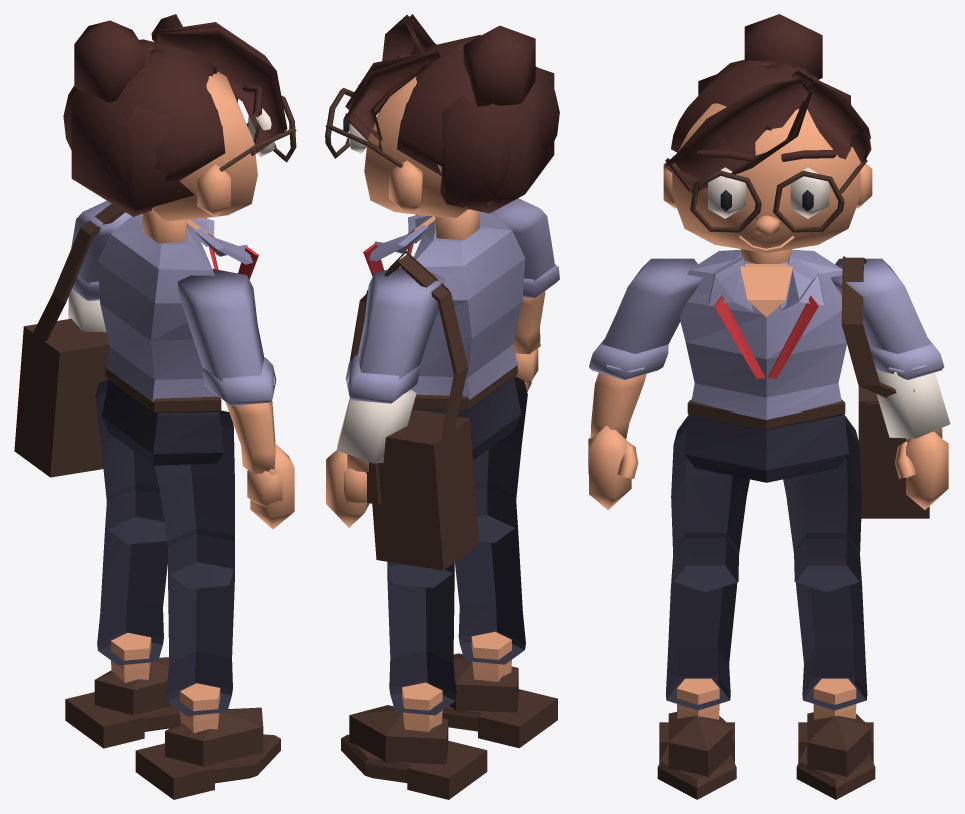
3 renders of one model, left to right at view 1: azimuth 30°, elevation 25°; view 2: azimuth 150°, elevation 25°; view 3: azimuth 270°, elevation 25°, orthographic.
Visible parts, largest first — view 1: head_pal_hairChestnut, torso_pal_lavender, torso_pal_leather, shinR_pal_navy, footR_pal_leather, shinL_pal_navy, head_pal_skinWarm, legR_pal_navy, armR_pal_lavender, footL_pal_leather, hip_pal_navy, legL_pal_navy (+9 smaller); view 2: head_pal_hairChestnut, torso_pal_leather, torso_pal_lavender, footL_pal_leather, shinL_pal_navy, shinR_pal_navy, head_pal_skinWarm, armL_pal_lavender, footR_pal_leather, legR_pal_navy, foreArmL_pal_picketWhite, armR_pal_lavender (+11 smaller); view 3: torso_pal_lavender, head_pal_hairChestnut, head_pal_skinWarm, hip_pal_navy, legL_pal_navy, legR_pal_navy, torso_pal_leather, shinL_pal_navy, shinR_pal_navy, armR_pal_lavender, footR_pal_leather, footL_pal_leather (+14 smaller).
Boxes of the visible parts, bbox=[...] form: head_pal_hairChestnut: bbox=[63, 14, 287, 216]; torso_pal_lavender: bbox=[97, 215, 252, 401]; torso_pal_leather: bbox=[14, 203, 125, 477]; shinR_pal_navy: bbox=[166, 528, 234, 715]; footR_pal_leather: bbox=[135, 707, 280, 799]; shinL_pal_navy: bbox=[97, 483, 167, 665]; head_pal_skinWarm: bbox=[142, 71, 257, 243]; legR_pal_navy: bbox=[154, 410, 234, 589]; armR_pal_lavender: bbox=[177, 269, 264, 381]; footL_pal_leather: bbox=[65, 657, 180, 748]; hip_pal_navy: bbox=[101, 379, 223, 465]; legL_pal_navy: bbox=[95, 379, 166, 544]; head_pal_hairChestnut: bbox=[345, 14, 559, 213]; torso_pal_leather: bbox=[349, 251, 479, 570]; torso_pal_lavender: bbox=[369, 212, 525, 399]; footL_pal_leather: bbox=[341, 705, 487, 799]; shinL_pal_navy: bbox=[387, 561, 456, 715]; shinR_pal_navy: bbox=[455, 481, 525, 664]; head_pal_skinWarm: bbox=[364, 76, 480, 240]; armL_pal_lavender: bbox=[357, 267, 444, 379]; footR_pal_leather: bbox=[442, 653, 557, 748]; legR_pal_navy: bbox=[473, 376, 527, 542]; foreArmL_pal_picketWhite: bbox=[337, 389, 416, 463]; armR_pal_lavender: bbox=[480, 198, 554, 280]; torso_pal_lavender: bbox=[679, 249, 846, 419]; head_pal_hairChestnut: bbox=[665, 14, 871, 190]; head_pal_skinWarm: bbox=[663, 103, 872, 263]; hip_pal_navy: bbox=[684, 415, 848, 482]; legL_pal_navy: bbox=[783, 414, 861, 591]; legR_pal_navy: bbox=[671, 414, 749, 591]; torso_pal_leather: bbox=[841, 256, 929, 518]; shinL_pal_navy: bbox=[794, 532, 867, 710]; shinR_pal_navy: bbox=[666, 532, 738, 710]; armR_pal_lavender: bbox=[602, 258, 702, 353]; footR_pal_leather: bbox=[657, 712, 736, 799]; footL_pal_leather: bbox=[796, 712, 875, 799].
Size of the model in its own units: 0.4674 by 1.78 by 0.8016.
